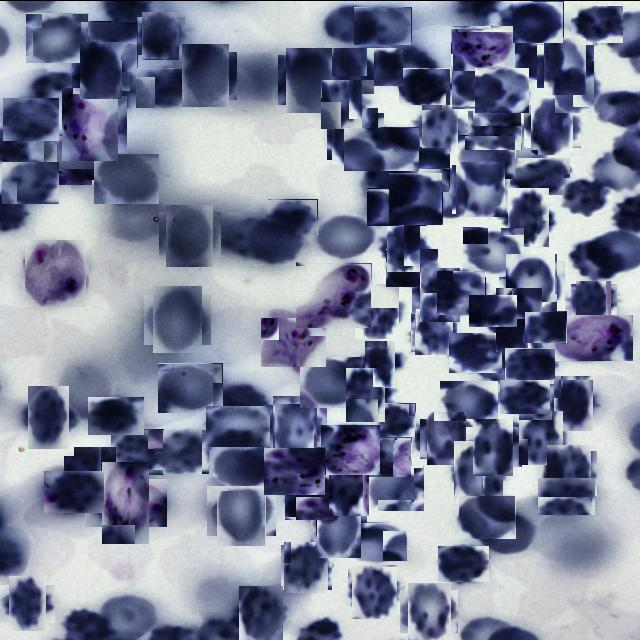red blood cell: (502, 256, 562, 316), (212, 480, 271, 540), (148, 290, 207, 348), (282, 50, 340, 108), (344, 126, 420, 170), (158, 362, 223, 412), (94, 153, 159, 203), (44, 134, 108, 184), (300, 356, 362, 407), (26, 12, 89, 62), (178, 47, 234, 103), (419, 166, 477, 220), (463, 226, 525, 276), (451, 442, 506, 498), (313, 211, 377, 259), (162, 208, 218, 262), (491, 292, 546, 346), (209, 444, 273, 490), (268, 399, 322, 453), (81, 20, 138, 71), (389, 171, 443, 224), (320, 2, 385, 46), (475, 510, 537, 555), (247, 218, 305, 266), (329, 110, 382, 162), (22, 391, 74, 444), (454, 162, 506, 215), (389, 146, 450, 191), (234, 588, 286, 640), (68, 450, 120, 502), (366, 464, 424, 510), (285, 470, 338, 520), (206, 405, 270, 446), (458, 134, 516, 178), (544, 447, 594, 498), (44, 470, 104, 512), (459, 494, 516, 538), (350, 566, 400, 616), (352, 285, 402, 335), (404, 586, 454, 636), (516, 412, 566, 462), (504, 192, 554, 242), (528, 100, 578, 150), (314, 504, 364, 554), (540, 40, 590, 90), (76, 44, 126, 94), (440, 380, 498, 423), (568, 237, 626, 280), (1, 160, 59, 203), (156, 428, 211, 473), (452, 64, 508, 108), (344, 521, 407, 560), (111, 428, 164, 474), (475, 67, 529, 112), (3, 97, 59, 140), (468, 422, 517, 471), (136, 67, 194, 107), (510, 156, 571, 194), (550, 378, 598, 426), (282, 542, 330, 590), (416, 270, 464, 318), (367, 187, 427, 225), (423, 414, 470, 462), (325, 464, 372, 512), (342, 371, 390, 417), (437, 269, 486, 314), (538, 476, 596, 514), (354, 6, 412, 44), (213, 382, 268, 422), (468, 109, 522, 149), (513, 0, 564, 42), (88, 396, 144, 434), (449, 332, 502, 372), (552, 63, 598, 109), (348, 47, 403, 85), (5, 580, 50, 626), (330, 48, 376, 93), (319, 81, 364, 127), (362, 436, 412, 476), (571, 6, 623, 44), (386, 248, 438, 286), (514, 42, 567, 79), (399, 67, 451, 104), (418, 106, 461, 150), (412, 310, 456, 352), (438, 545, 489, 581), (140, 14, 182, 57), (268, 198, 318, 234), (563, 177, 607, 217), (505, 346, 556, 380), (573, 280, 614, 322), (500, 379, 550, 413), (384, 227, 424, 267), (469, 294, 517, 326), (360, 344, 400, 382), (374, 402, 416, 436), (525, 310, 567, 342)
ring: (264, 312, 322, 370)
trophozoite: (296, 262, 372, 327), (23, 240, 88, 306), (58, 90, 122, 156), (94, 470, 158, 534), (554, 314, 633, 360), (451, 24, 516, 70), (264, 446, 326, 494), (321, 424, 380, 474)
